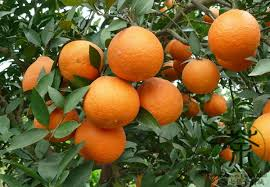orange: (85, 75, 141, 129), (203, 10, 261, 60), (105, 29, 165, 77), (134, 75, 184, 129), (74, 120, 126, 163), (54, 39, 104, 82), (33, 99, 79, 142)
